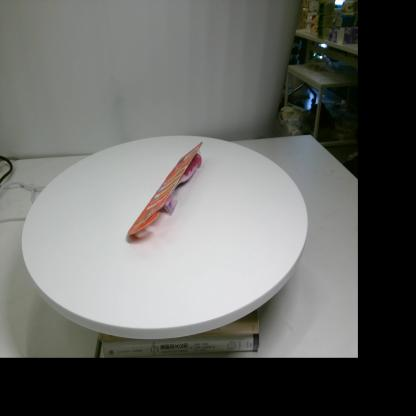Personal Hygiene: (127, 142, 203, 236)
